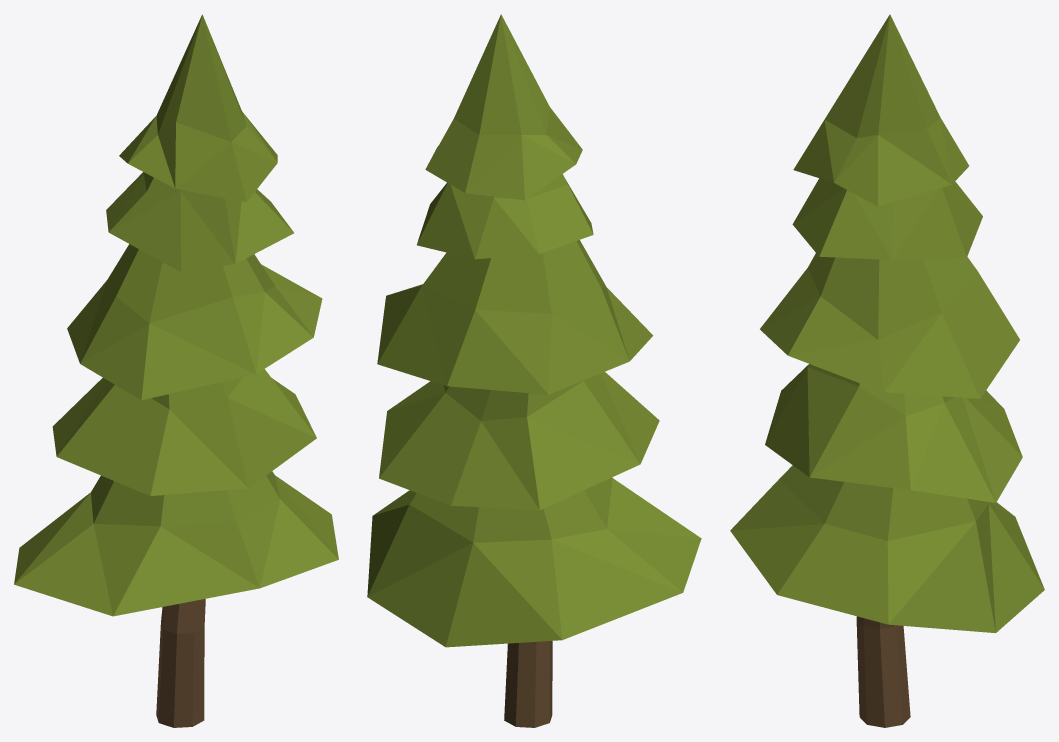
The model's file is tree.glb.
3 views of the same model, side by side, from view 1: azimuth 30°, elevation 25°; view 2: azimuth 150°, elevation 25°; view 3: azimuth 270°, elevation 25° (orthographic). The views are drawn at different scales.
Visible parts, largest first — view 1: Cone.003; view 2: Cone.003; view 3: Cone.003.
Part boxes in pixels (bbox=[...]): Cone.003: bbox=[14, 14, 338, 727]; Cone.003: bbox=[367, 14, 701, 727]; Cone.003: bbox=[730, 14, 1044, 727].
Bounding box in the file's own units: 1.47 × 3.11 × 1.24.
